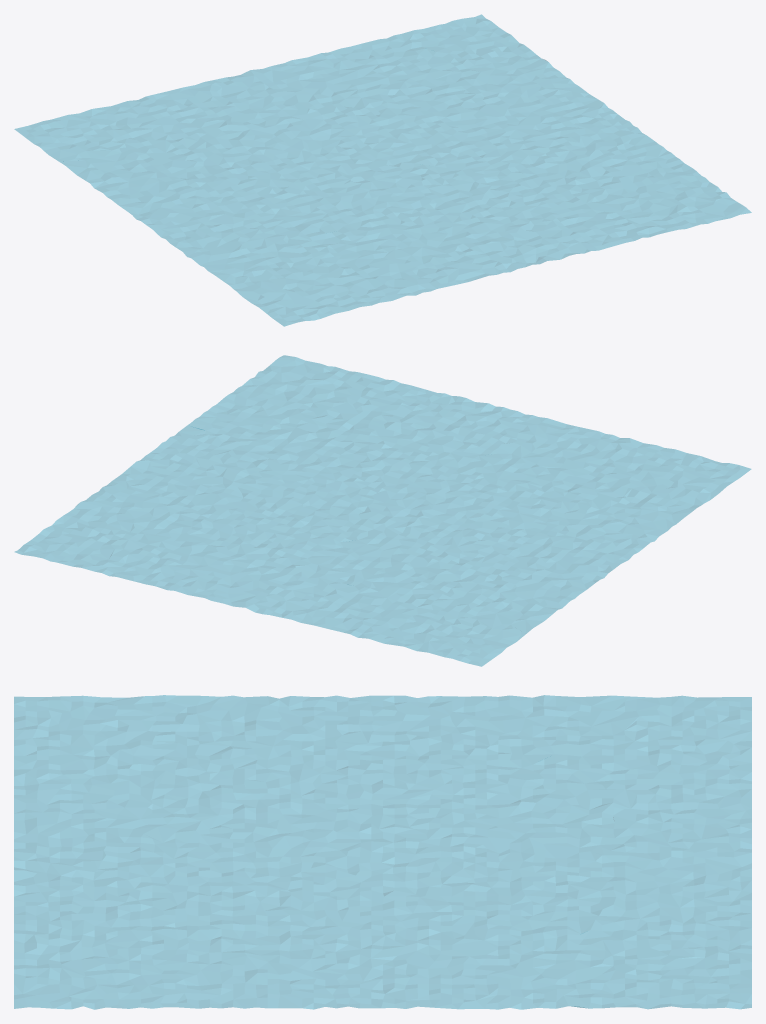
File: waterh.fbx
3 views of the same model, one above another, from view 1: azimuth 30°, elevation 25°; view 2: azimuth 150°, elevation 25°; view 3: azimuth 270°, elevation 25° (orthographic). The views are drawn at different scales.
Visible parts, largest first — view 1: Water; view 2: Water; view 3: Water.
Boxes of the visible parts, x1,y1,x2,y2 form: Water: (14, 14, 751, 326); Water: (15, 355, 751, 666); Water: (14, 695, 751, 1009).
Size of the model in its own units: 20002 by 148 by 20002.
